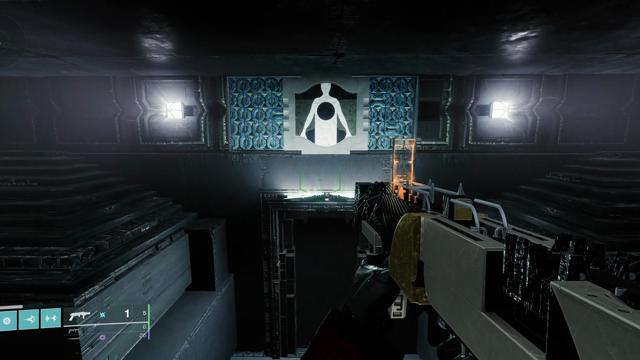grief: (295, 82, 357, 146)
